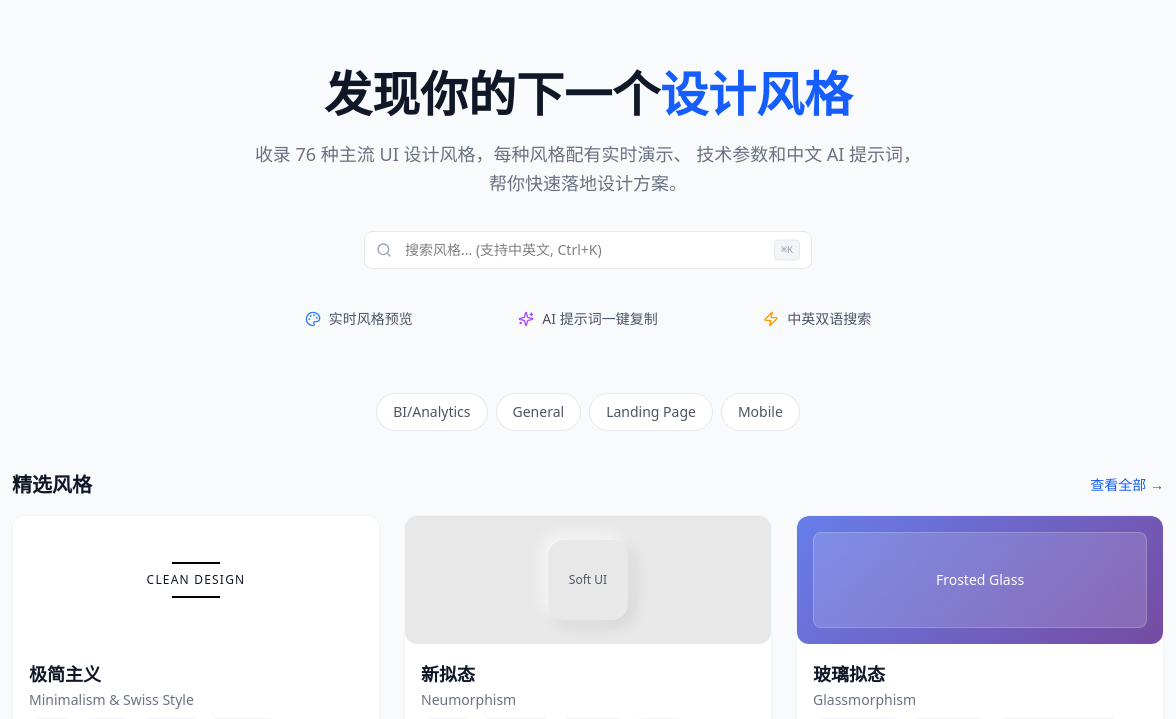
Test: HomePage › shows empty state when search has no results
Type "zzz_nomatch_xyz" into the field with placeholder "搜索风格... (支持中英文, Ctrl+K)" at (588, 250), box [364,230,812,268]
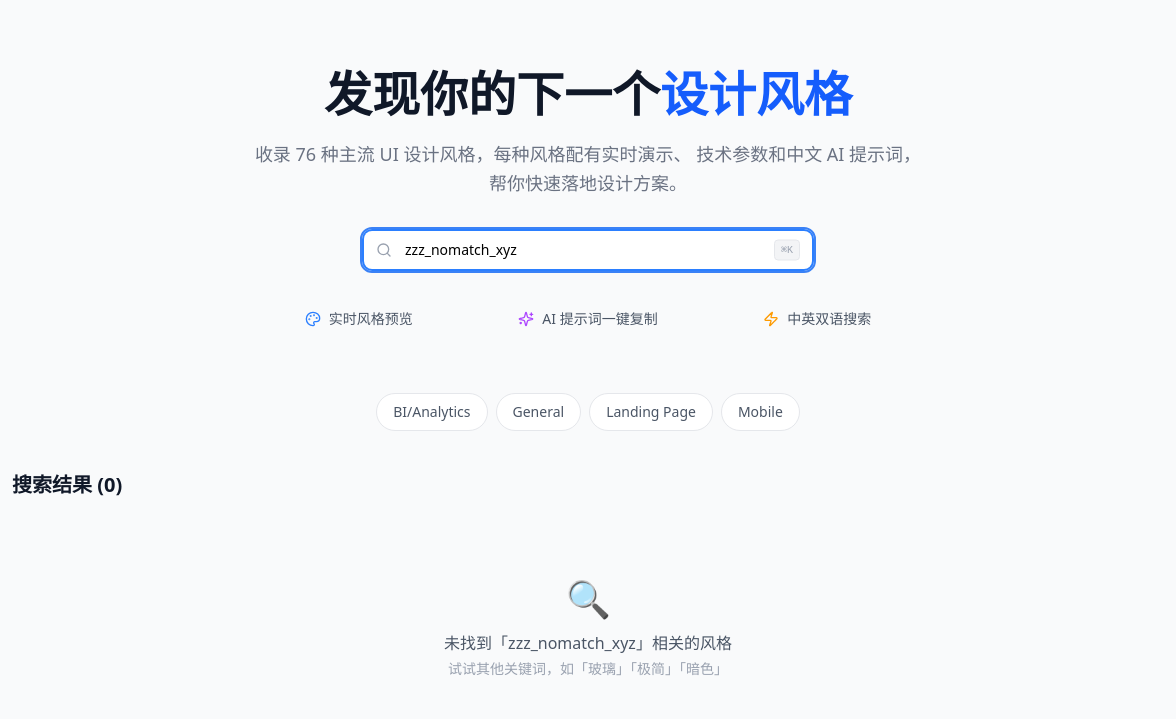
Expected: the text "未找到「zzz_nomatch_xyz」相关的风格" is shown, [444,632,732,654]
